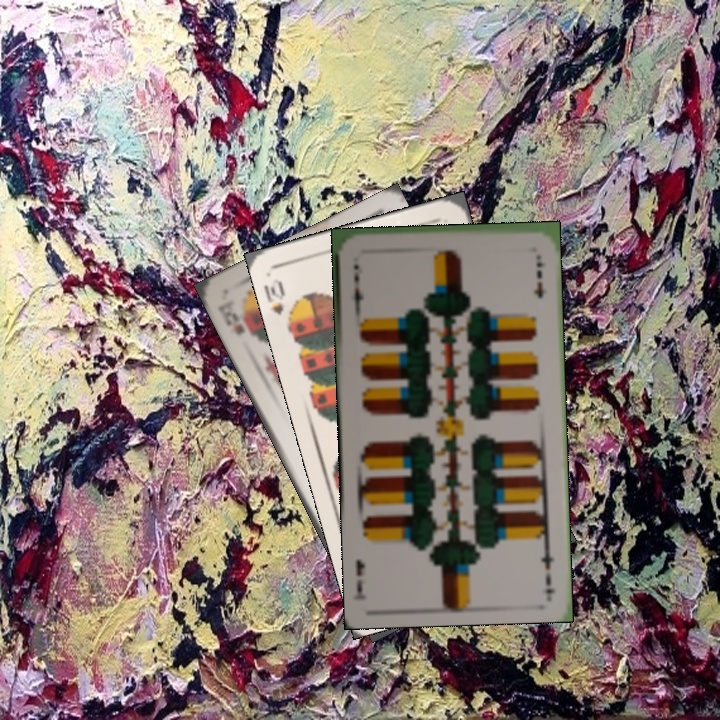E7: (536, 537, 556, 588), (349, 260, 367, 312)
S10: (260, 275, 296, 329)
SK: (218, 296, 247, 339)
